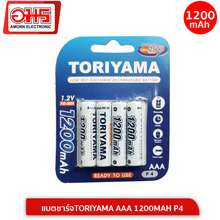Battery: (126, 98, 147, 166), (76, 99, 96, 168), (95, 99, 111, 167), (111, 99, 127, 166)
